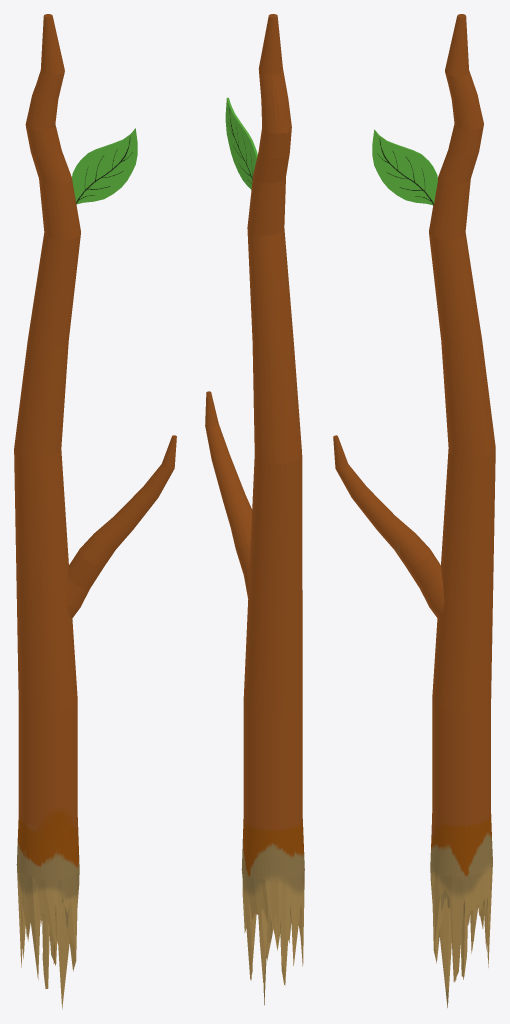
File: highPolyWand.glb
3 views of the same model, side by side, from view 1: azimuth 90°, elevation 25°; view 2: azimuth 210°, elevation 25°; view 3: azimuth 270°, elevation 25° (orthographic).
Visible parts, largest first — view 1: Cylinder; view 2: Cylinder; view 3: Cylinder.
Part boxes in pixels (x1,y1,x2,y2): Cylinder: [14, 14, 176, 1009]; Cylinder: [205, 14, 304, 1005]; Cylinder: [333, 14, 495, 1007].
Bounding box in the file's own units: 0.0532 × 0.929 × 0.1378.
Materials: 2 (2 with a texture image).
